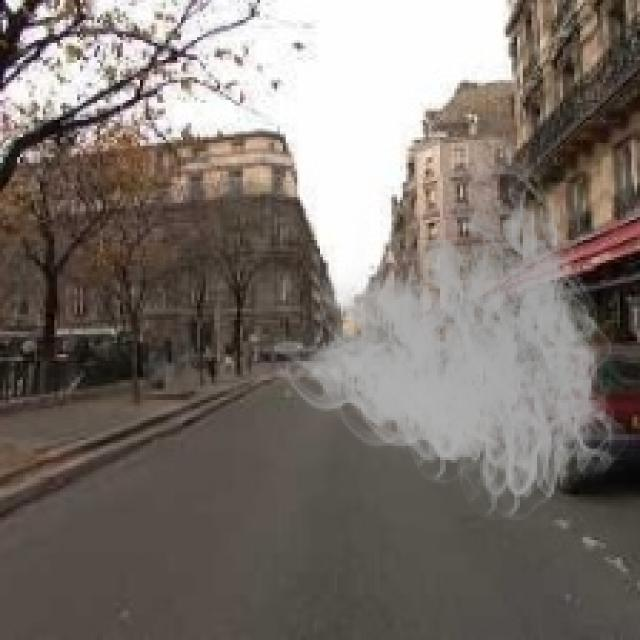Smoke: (274, 154, 637, 532)
